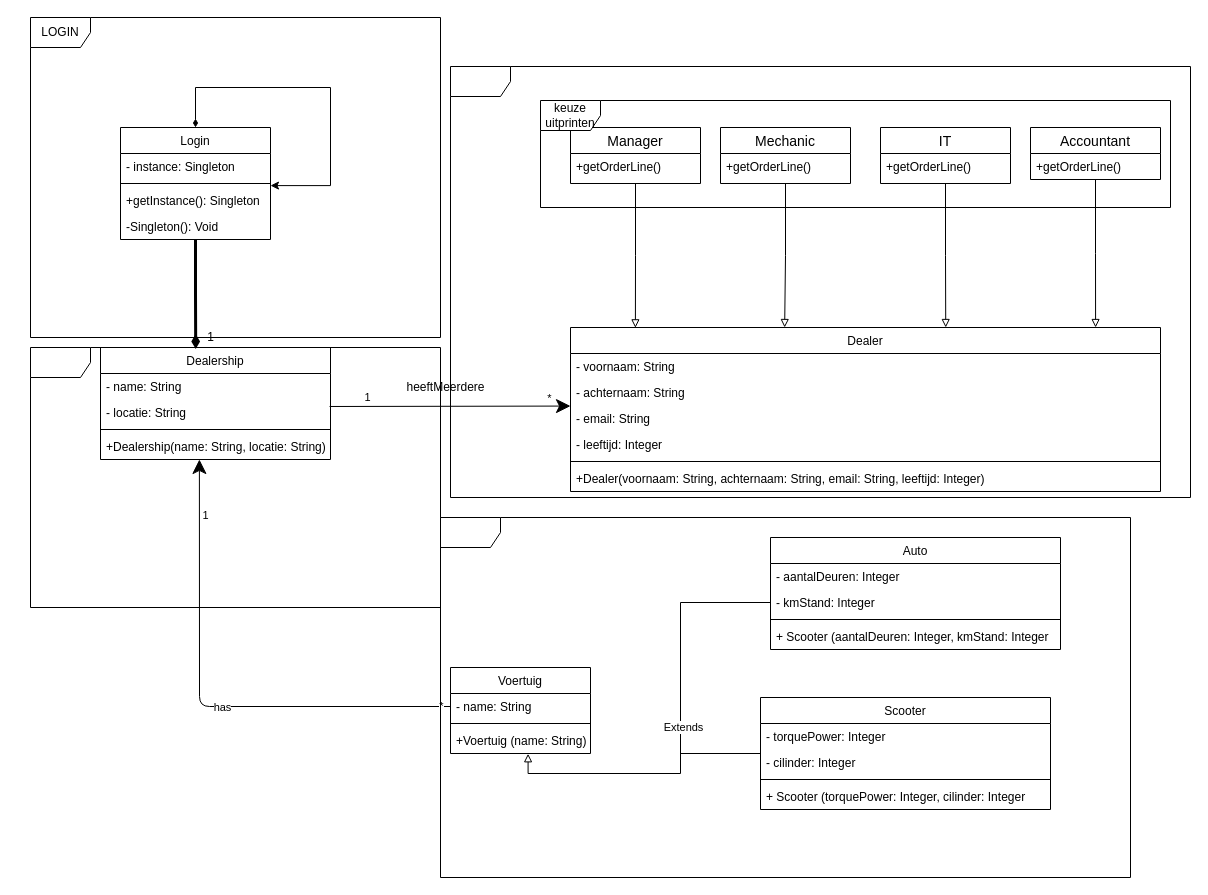
This 1208x895 diagram has some shape labels left out. Here are the shapes that lost their labels. From the top down, the box of each, then its label:
(450, 66, 1190, 498): Dealers inzien
(30, 346, 440, 608): Dealerships inzien/bewerken
(440, 516, 1130, 878): Voertuigen inzien en bewerken
